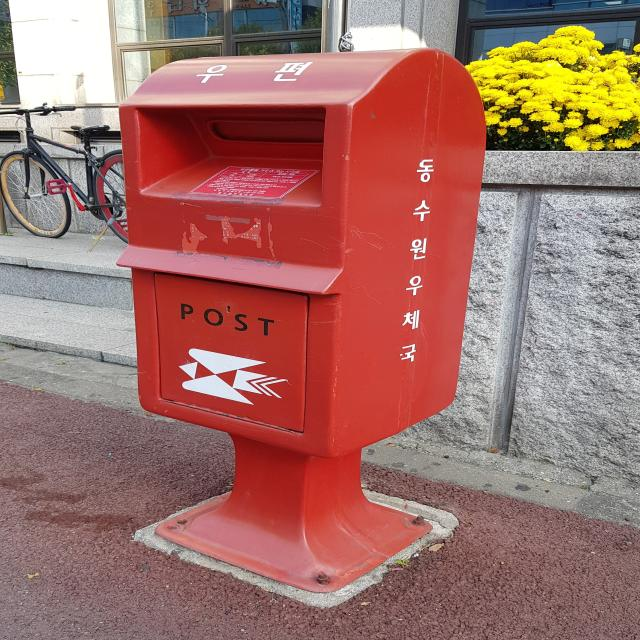Post Box: (119, 48, 486, 596)
